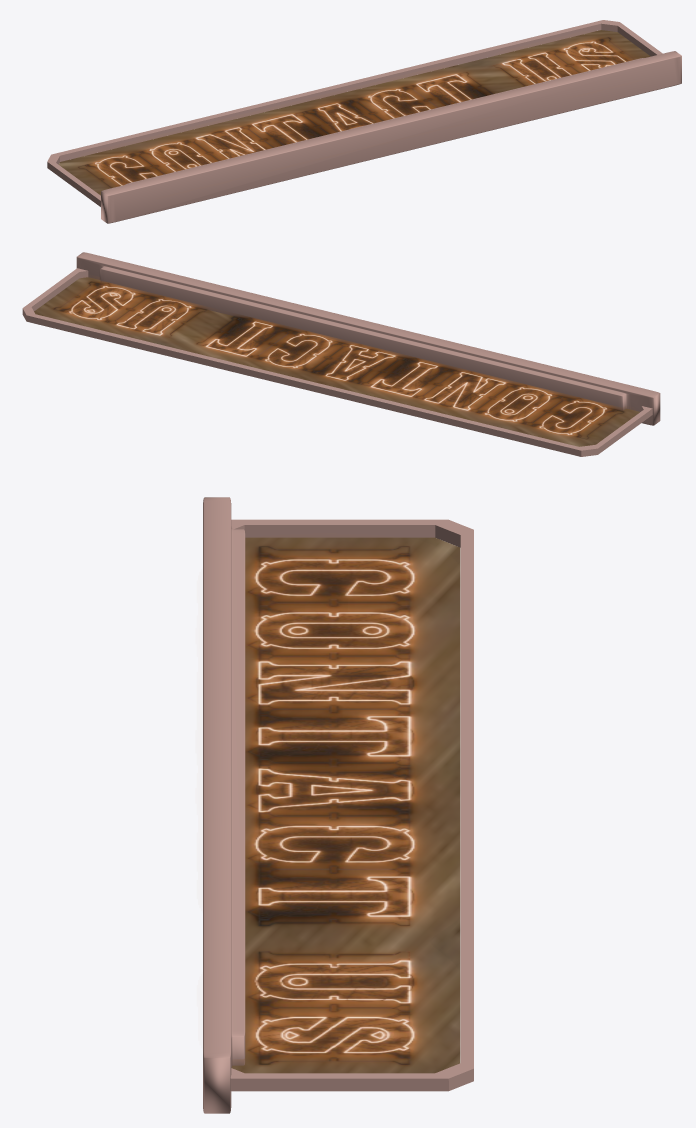
File: ContactUsBoard.glb
The picture shows the model from 3 angles, top to bottom: view 1: azimuth 30°, elevation 25°; view 2: azimuth 150°, elevation 25°; view 3: azimuth 270°, elevation 25°; orthographic projection. The views are drawn at different scales.
Visible parts, largest first — view 1: Cube.002, Plane.010, Plane.011; view 2: Plane.010, Cube.002, Plane.011; view 3: Plane.010, Plane.011, Cube.002.
Part boxes in pixels (x1,y1,x2,y2): Cube.002: [47, 20, 681, 223]; Plane.010: [76, 35, 643, 188]; Plane.011: [58, 30, 650, 195]; Plane.010: [49, 279, 626, 439]; Cube.002: [22, 252, 660, 456]; Plane.011: [34, 277, 639, 446]; Plane.010: [237, 543, 441, 1069]; Plane.011: [231, 537, 460, 1073]; Cube.002: [203, 497, 473, 1113].
Size of the model in its own units: 5.46 by 0.2535 by 1.39.
3 materials, 2 textured.
